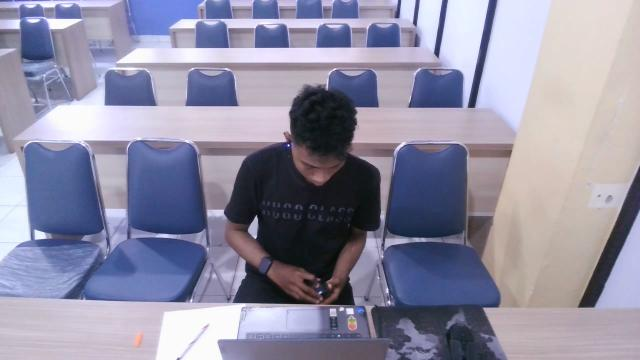Earpiece: (274, 131, 295, 151)
Head_Down_Extreme: (217, 79, 390, 315)
